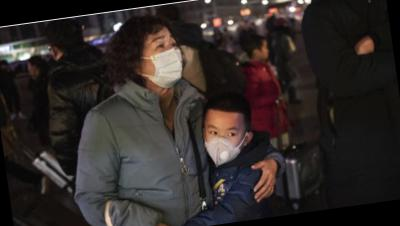with_mask: (138, 30, 186, 91), (201, 118, 249, 169)
without_mask: (257, 42, 271, 60)
